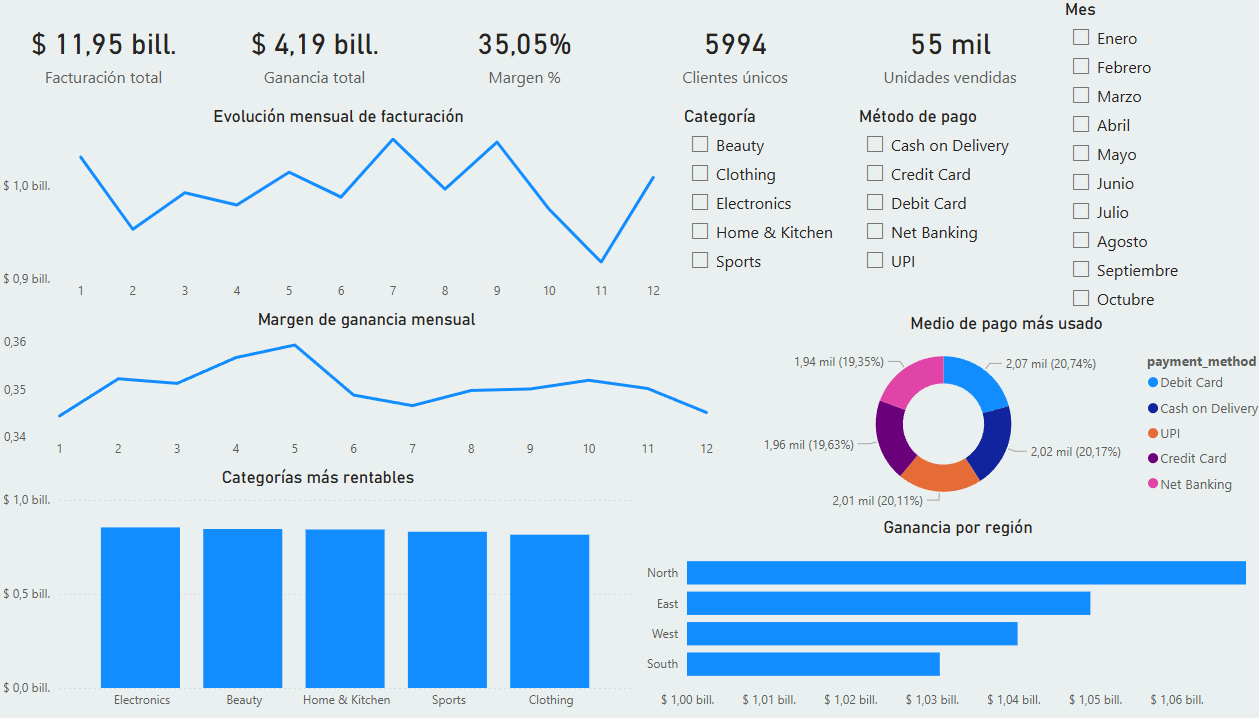

This screenshot's page, from the dashboard's own definition file:
{"tool":"powerbi","page":{"name":"Dashboard","canvas":[1280,720],"ordinal":0},"visuals":[{"type":"card","fields":{"Values":["sales_data.Facturación total"]},"box":[0,0,211.1,107.1],"z":0},{"type":"card","fields":{"Values":["sales_data.Clientes únicos"]},"box":[632.3,0,210.1,107.1],"z":1000},{"type":"card","fields":{"Values":["sales_data.Unidades vendidas"]},"box":[842.4,0,219.2,107.1],"z":2000},{"type":"card","fields":{"Values":["sales_data.Ganancia total"]},"box":[211.1,0,211.1,107.1],"z":3000},{"type":"card","fields":{"Values":["sales_data.Margen %"]},"box":[421.2,0,211.1,107.1],"z":4000},{"type":"lineChart","title":"Evolución mensual de facturación","fields":{"Y":["sales_data.Facturación total"],"Category":["sales_data.Mes"]},"box":[0,107.1,680.8,203],"z":5000},{"type":"lineChart","title":"Margen de ganancia mensual","fields":{"Category":["sales_data.Mes"],"Y":["sales_data.Margen %"]},"box":[0,310.1,737.4,157.6],"z":6000},{"type":"clusteredColumnChart","title":"Categorías más rentables","fields":{"Category":["sales_data.product_category"],"Y":["sales_data.Ganancia total"]},"box":[0,467.7,640.4,251.5],"z":7000},{"type":"donutChart","title":"Medio de pago más usado","fields":{"Category":["sales_data.payment_method"],"Y":["Count(sales_data.order_id)"]},"box":[737.4,314.1,542.4,203],"z":8000},{"type":"clusteredBarChart","title":"Ganancia por región","fields":{"Category":["sales_data.region"],"Y":["sales_data.Ganancia total"]},"box":[640.5,517.6,639.5,201.1],"z":9000},{"type":"slicer","title":"Categoría","fields":{"Values":["sales_data.product_category"]},"box":[680.8,107.1,174.7,207.1],"z":10000},{"type":"slicer","title":"Método de pago","fields":{"Values":["sales_data.payment_method"]},"box":[855.6,107.1,206.1,207.1],"z":11000},{"type":"slicer","title":"Mes","fields":{"Values":["sales_data.Nombre del mes"]},"box":[1061.6,0,218.2,314.1],"z":12000}]}

Visuals, with their boxes in screenshot pixels (x1, y1, x2, y2), scaled from the page's 1280x720 canvas onto the 1259x718 screenshot:
card - sales_data.Facturación total: 0 0 208 107
card - sales_data.Clientes únicos: 622 0 829 107
card - sales_data.Unidades vendidas: 829 0 1044 107
card - sales_data.Ganancia total: 208 0 415 107
card - sales_data.Margen %: 414 0 622 107
"Evolución mensual de facturación" lineChart: 0 107 670 309
"Margen de ganancia mensual" lineChart: 0 309 725 466
"Categorías más rentables" clusteredColumnChart: 0 466 630 717
"Medio de pago más usado" donutChart: 725 313 1258 516
"Ganancia por región" clusteredBarChart: 630 516 1258 717
"Categoría" slicer: 670 107 841 313
"Método de pago" slicer: 842 107 1044 313
"Mes" slicer: 1044 0 1258 313
